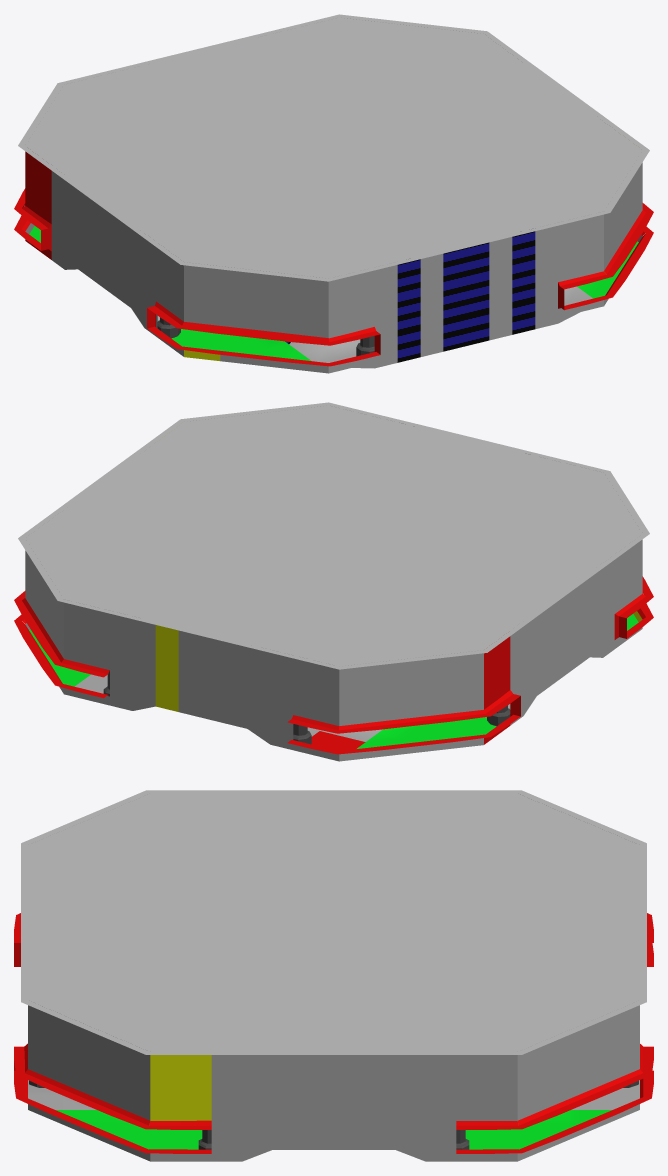
File: Nivel2-Wtex.fbx
3 views of the same model, one above another, from view 1: azimuth 30°, elevation 25°; view 2: azimuth 150°, elevation 25°; view 3: azimuth 270°, elevation 25° (orthographic). The views are drawn at different scales.
Visible parts, largest first — view 1: Techo, pCube19, pCube21, pCube20, Piso, pCube25; view 2: Techo, pCube23, pCube21, pCube22, Piso, pCube24; view 3: Techo, pCube26, pCube25, pCube24, Piso, pCube19, pCube23.
Boxes of the visible parts, x1=… form: Techo: x1=18, y1=14, x2=649, y2=281; pCube19: x1=328, y1=214, x2=612, y2=373; pCube21: x1=14, y1=151, x2=183, y2=356; pCube20: x1=177, y1=264, x2=329, y2=373; Piso: x1=29, y1=226, x2=638, y2=362; pCube25: x1=604, y1=162, x2=653, y2=305; Techo: x1=18, y1=402, x2=649, y2=669; pCube23: x1=55, y1=602, x2=339, y2=761; pCube21: x1=484, y1=539, x2=653, y2=744; pCube22: x1=338, y1=652, x2=490, y2=761; Piso: x1=29, y1=614, x2=638, y2=750; pCube24: x1=14, y1=550, x2=63, y2=693; Techo: x1=21, y1=790, x2=646, y2=1054; pCube26: x1=146, y1=1055, x2=521, y2=1161; pCube25: x1=16, y1=1005, x2=150, y2=1161; pCube24: x1=517, y1=1005, x2=651, y2=1161; Piso: x1=28, y1=1080, x2=639, y2=1149; pCube19: x1=14, y1=915, x2=27, y2=1098; pCube23: x1=640, y1=915, x2=653, y2=1098.
Bounding box in the file's own units: 68 × 13.7 × 68.
